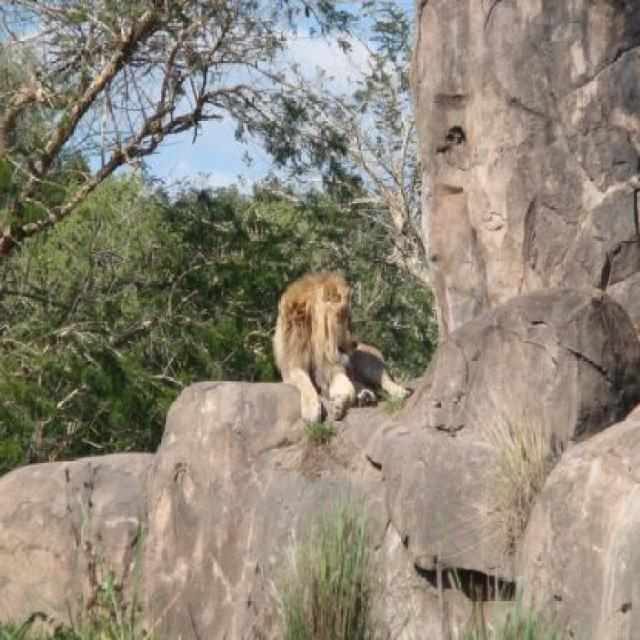Lion: (253, 266, 422, 448)
